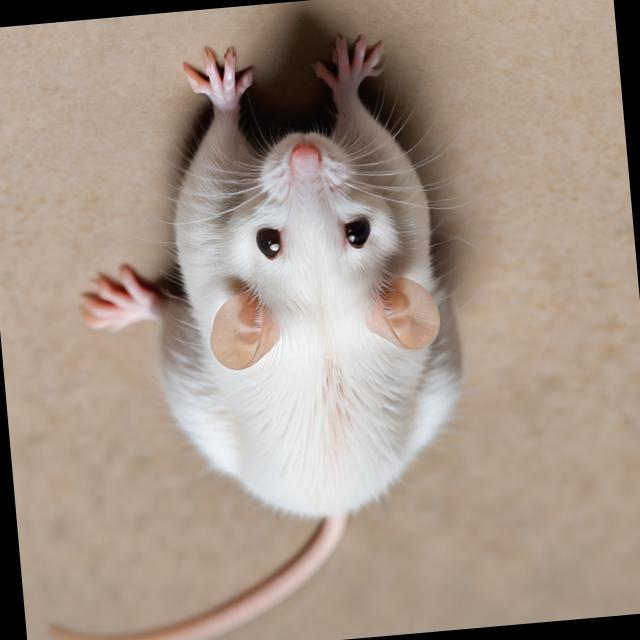rodents: (136, 78, 480, 542)
